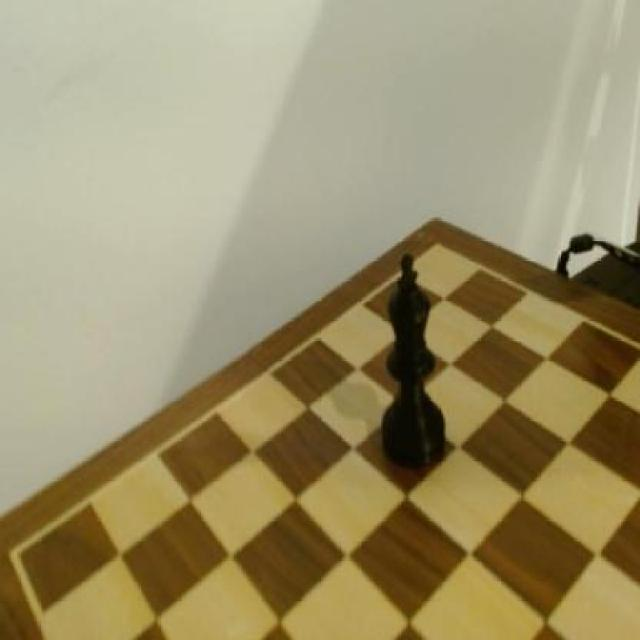black-bishop: (383, 249, 454, 473)
